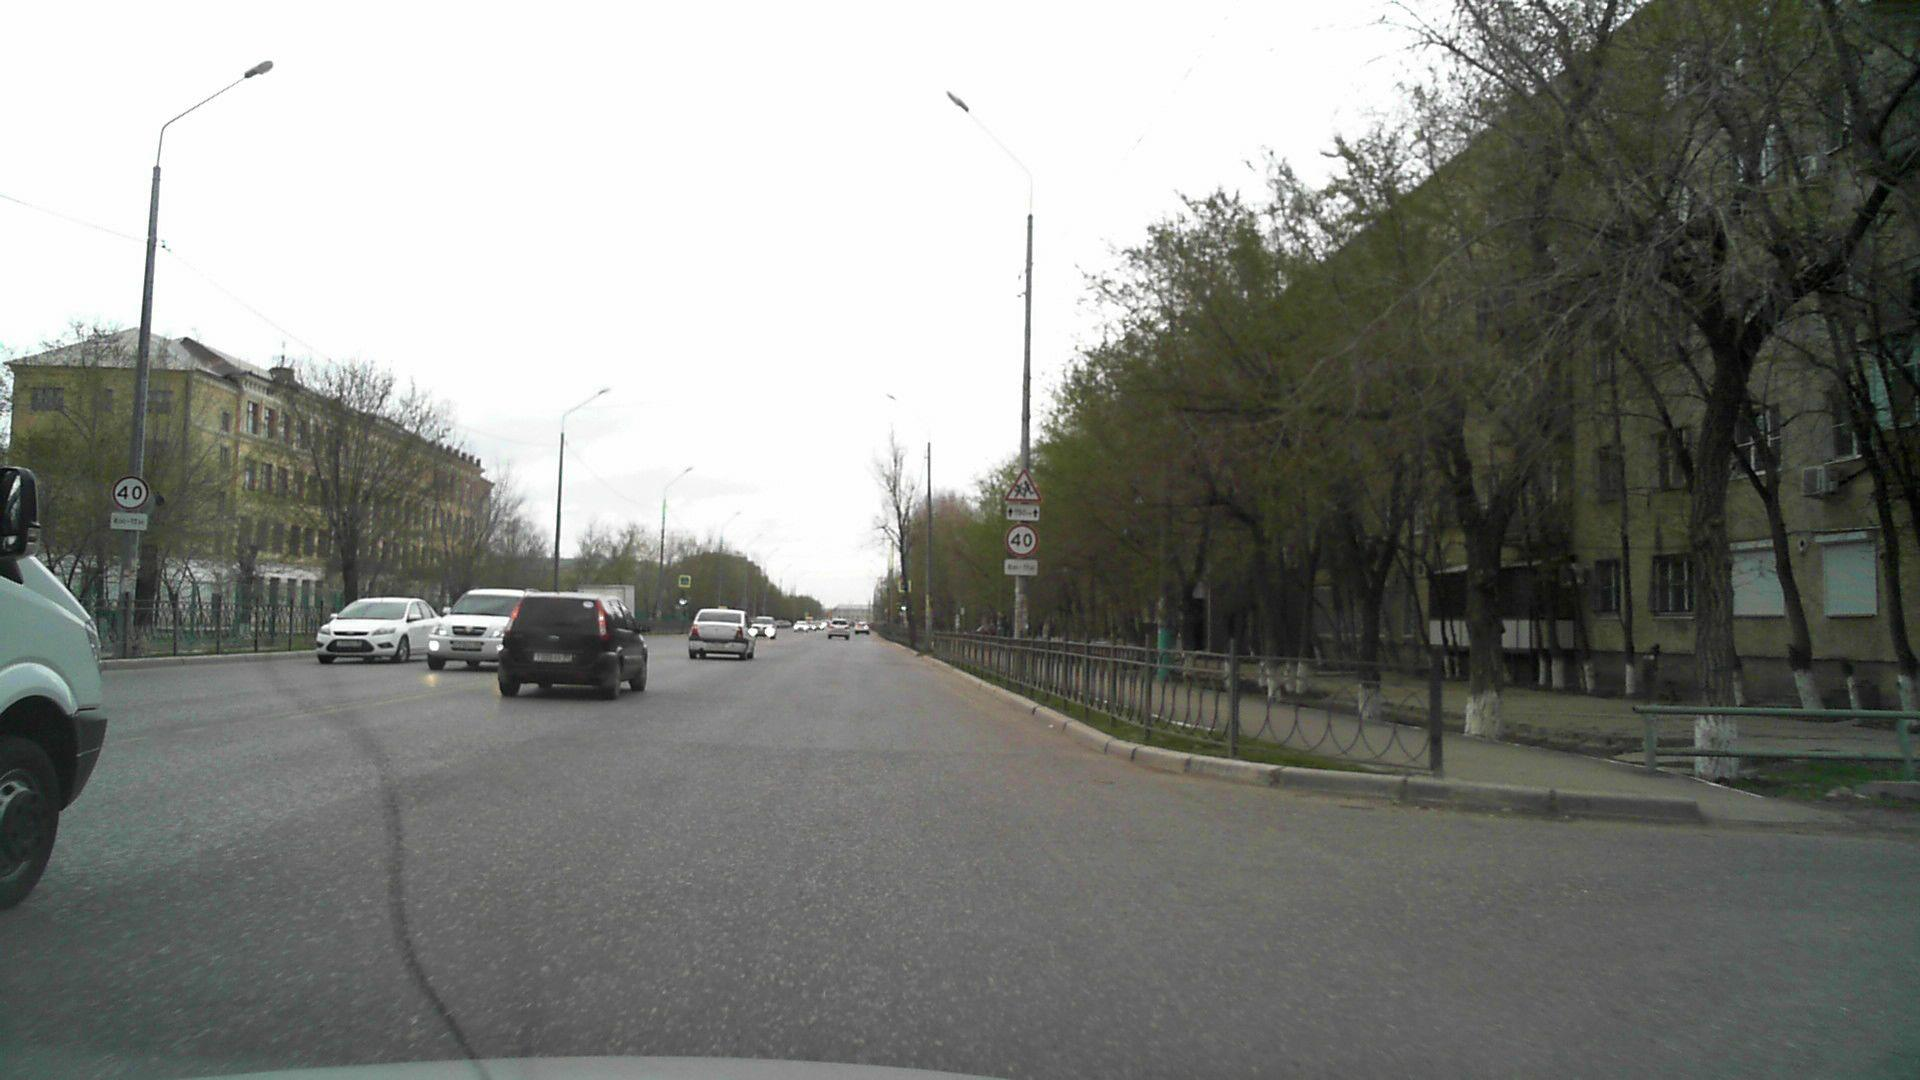1_23: (1005, 465, 1042, 502)
3_24: (112, 472, 152, 513), (1005, 525, 1036, 555)
5_19_1: (901, 580, 910, 592)
5_19_2: (680, 576, 690, 585)
8_2_1: (1005, 504, 1040, 522)
8_5_4: (111, 510, 148, 531), (1005, 558, 1039, 578)
